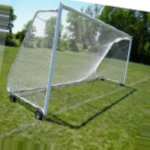goals: (5, 1, 133, 118)
